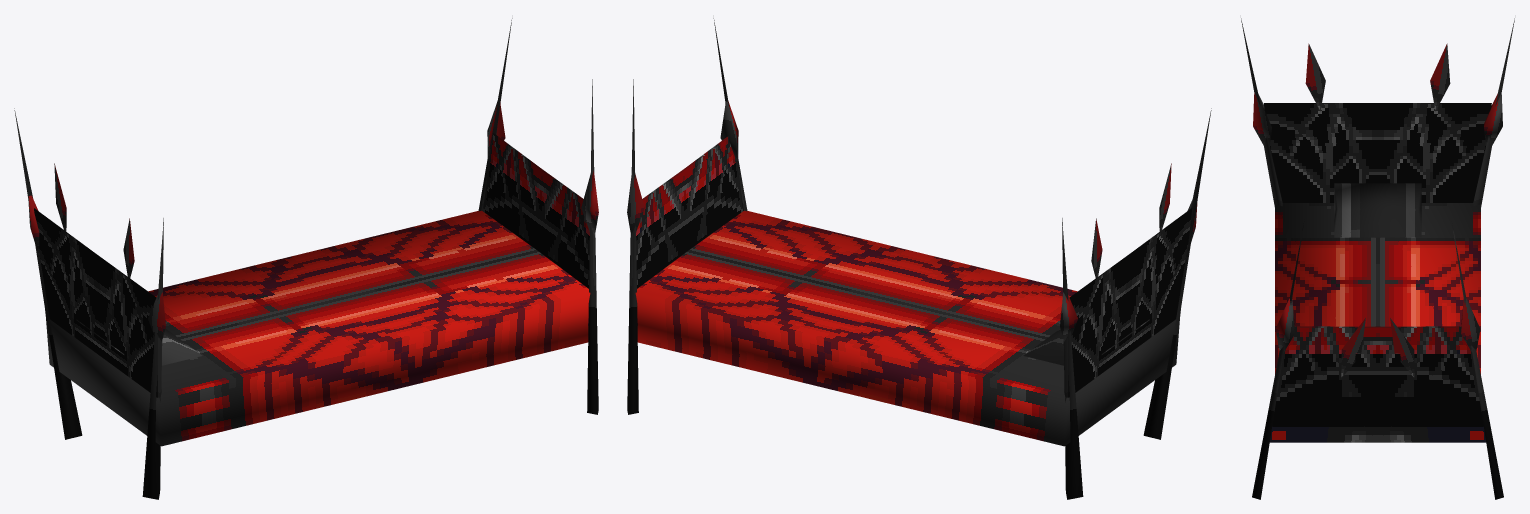
The picture shows the model from 3 angles, left to right: view 1: azimuth 30°, elevation 25°; view 2: azimuth 150°, elevation 25°; view 3: azimuth 270°, elevation 25°; orthographic projection. The views are drawn at different scales.
Parts seen in each view (by area): view 1: 3159IMFY04_01; view 2: 3159IMFY04_01; view 3: 3159IMFY04_01.
Boxes of the visible parts, left/top/right/bottom form: 3159IMFY04_01: left=14, top=18, right=598, bottom=499; 3159IMFY04_01: left=627, top=18, right=1211, bottom=499; 3159IMFY04_01: left=1241, top=18, right=1514, bottom=499.
Size of the model in its own units: 1.91 by 1.24 by 1.07.
Materials: 2 (2 with a texture image).
